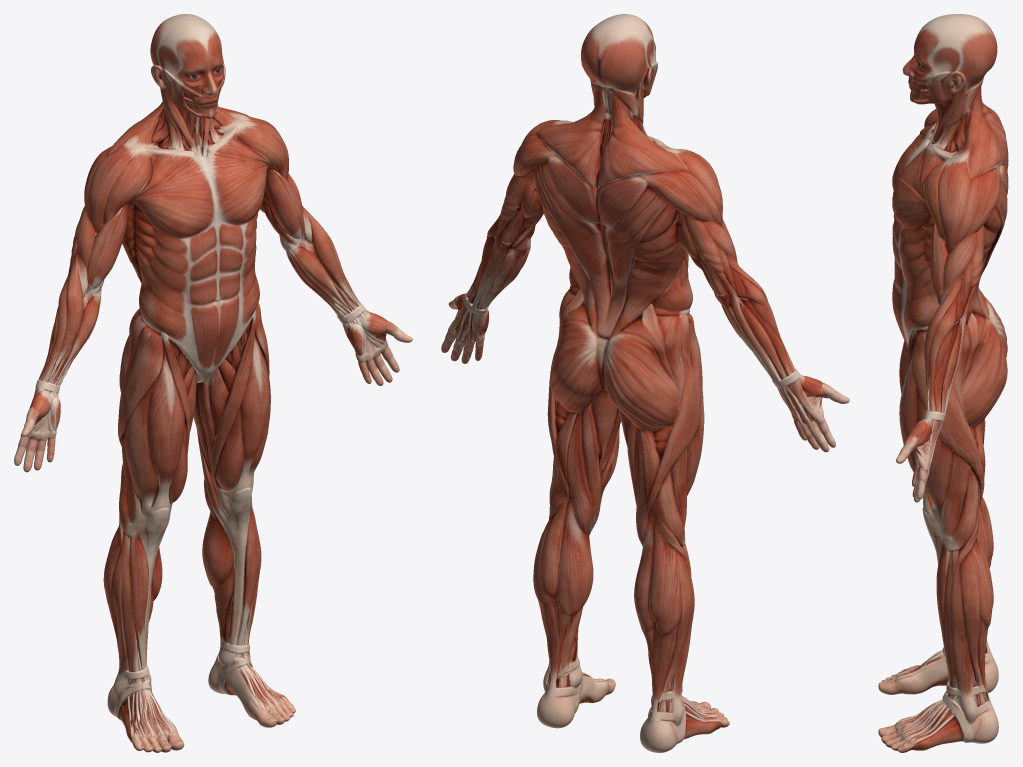
The model's file is human-muscles-original.glb.
3 views of the same model, side by side, from view 1: azimuth 30°, elevation 25°; view 2: azimuth 150°, elevation 25°; view 3: azimuth 270°, elevation 25° (orthographic). The views are drawn at different scales.
Parts seen in each view (by area): view 1: human-muscles; view 2: human-muscles; view 3: human-muscles.
Boxes of the visible parts, <box> form: human-muscles: <box>14,14,412,752</box>; human-muscles: <box>441,14,849,752</box>; human-muscles: <box>878,14,1008,752</box>.
Bounding box in the file's own units: 1.06 × 1.8 × 0.3029.
1 material, 1 textured.
